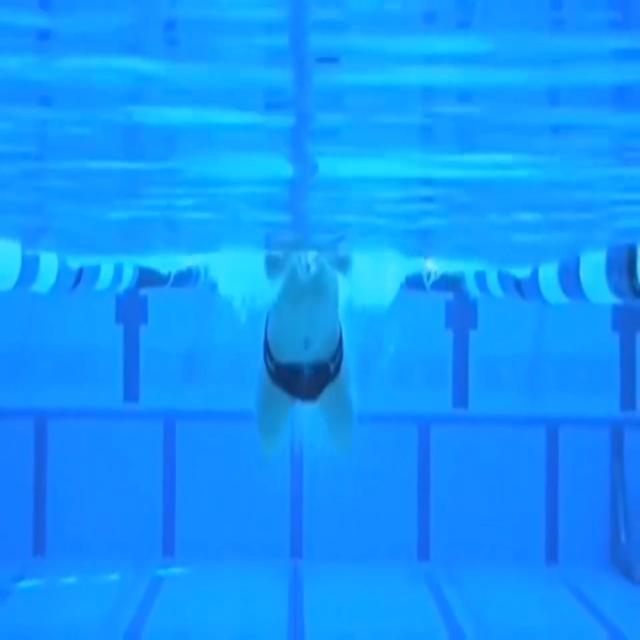Swimming: (256, 251, 362, 447)
